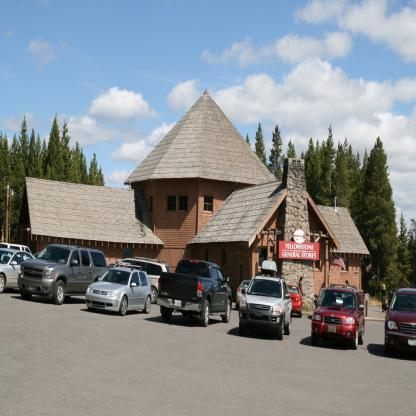Car: (1, 243, 416, 357), (20, 243, 108, 306), (85, 263, 152, 318), (313, 285, 366, 352), (239, 275, 293, 338), (122, 259, 174, 306), (383, 288, 416, 352), (1, 252, 36, 294), (1, 242, 33, 261), (287, 285, 303, 318), (237, 283, 252, 310)
